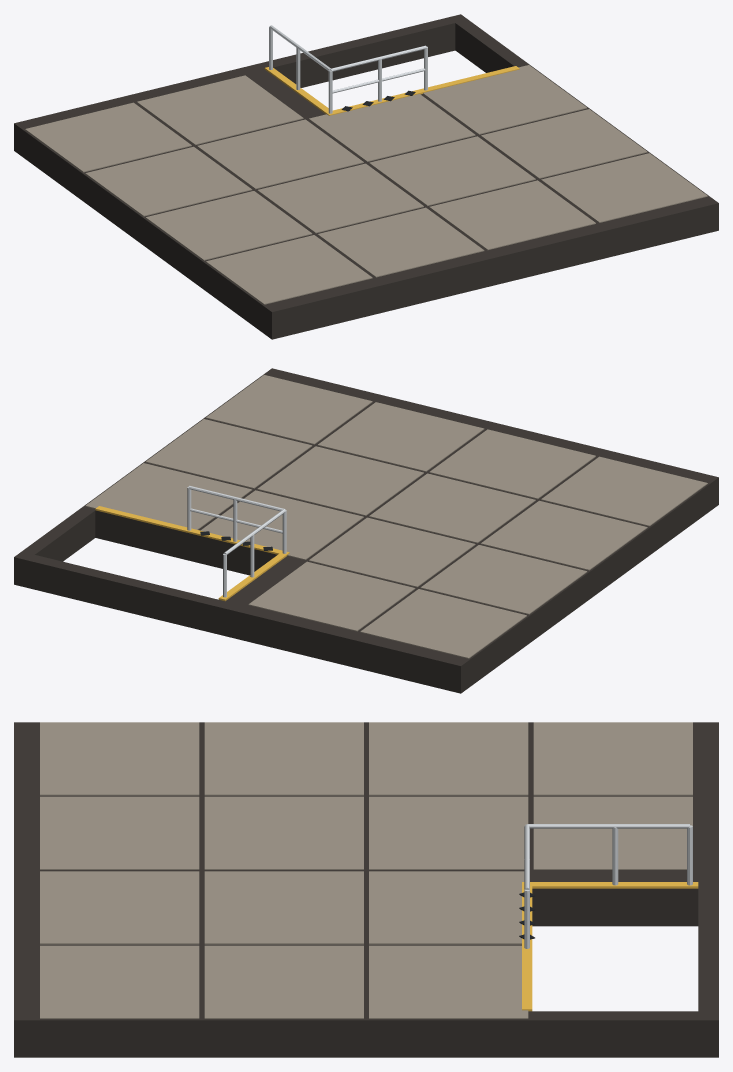
Rendered from Kit_FloorHole.fbx.
3 views of the same model, one above another, from view 1: azimuth 30°, elevation 25°; view 2: azimuth 150°, elevation 25°; view 3: azimuth 270°, elevation 25° (orthographic). The views are drawn at different scales.
Visible parts, largest first — view 1: Decor, Floor, HoleRail; view 2: Decor, Floor, HoleRail; view 3: Decor, Floor, HoleRail.
Part boxes in pixels (box(x1,y1,x2,y2)): Decor: box(25, 65, 707, 304); Floor: box(14, 14, 718, 339); HoleRail: box(269, 25, 427, 113); Decor: box(85, 375, 707, 658); Floor: box(14, 368, 718, 693); HoleRail: box(187, 485, 286, 597); Decor: box(40, 722, 698, 1018); Floor: box(14, 722, 718, 1057); HoleRail: box(524, 824, 692, 948).
Bounding box in the file's own units: 34 × 5.32 × 34.
